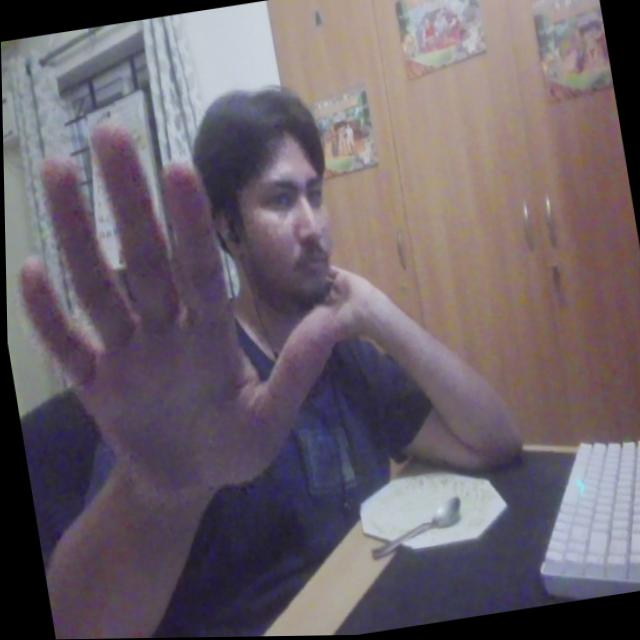hello: (1, 75, 364, 527)
